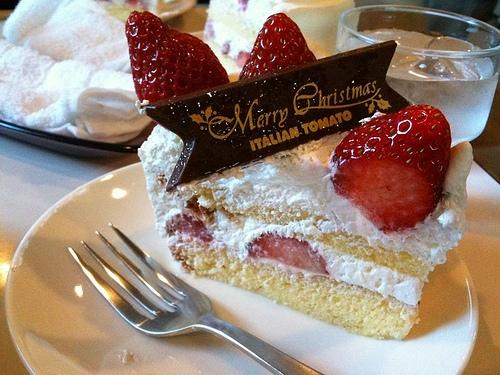strawberry: (331, 104, 452, 234), (125, 10, 230, 103), (238, 13, 317, 80), (245, 231, 329, 274), (165, 214, 213, 242), (204, 19, 215, 40), (237, 0, 248, 12), (222, 44, 230, 54)
